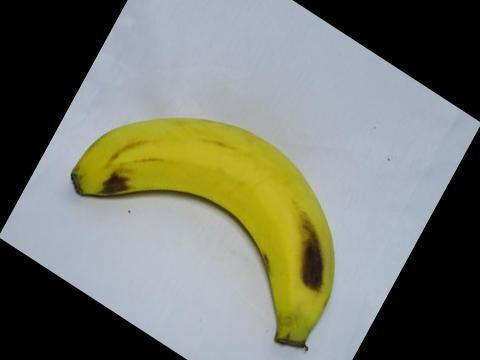freshripe: (59, 102, 352, 359)
